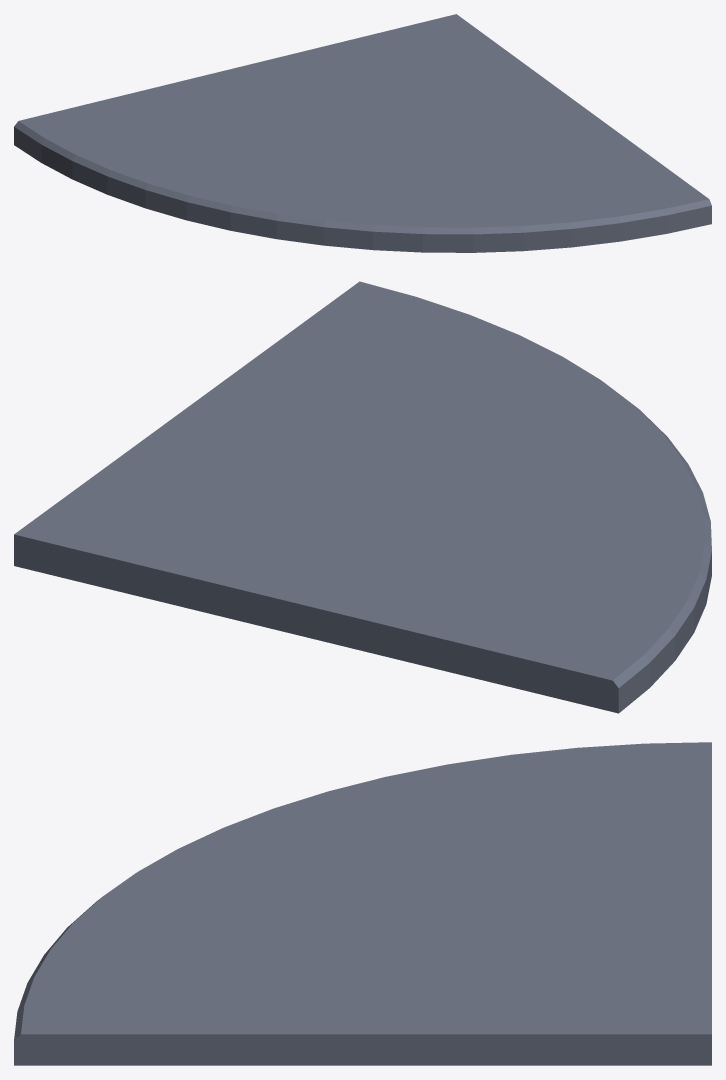
Rendered from env_block_sidewalk_corner_round_3m.glb.
3 views of the same model, one above another, from view 1: azimuth 30°, elevation 25°; view 2: azimuth 150°, elevation 25°; view 3: azimuth 270°, elevation 25° (orthographic). The views are drawn at different scales.
Parts seen in each view (by area): view 1: geometry_0; view 2: geometry_0; view 3: geometry_0.
Boxes of the visible parts, bbox=[...] form: geometry_0: bbox=[14, 14, 711, 252]; geometry_0: bbox=[14, 281, 711, 713]; geometry_0: bbox=[14, 742, 711, 1065].
Size of the model in its own units: 3.01 by 0.15 by 3.01.
